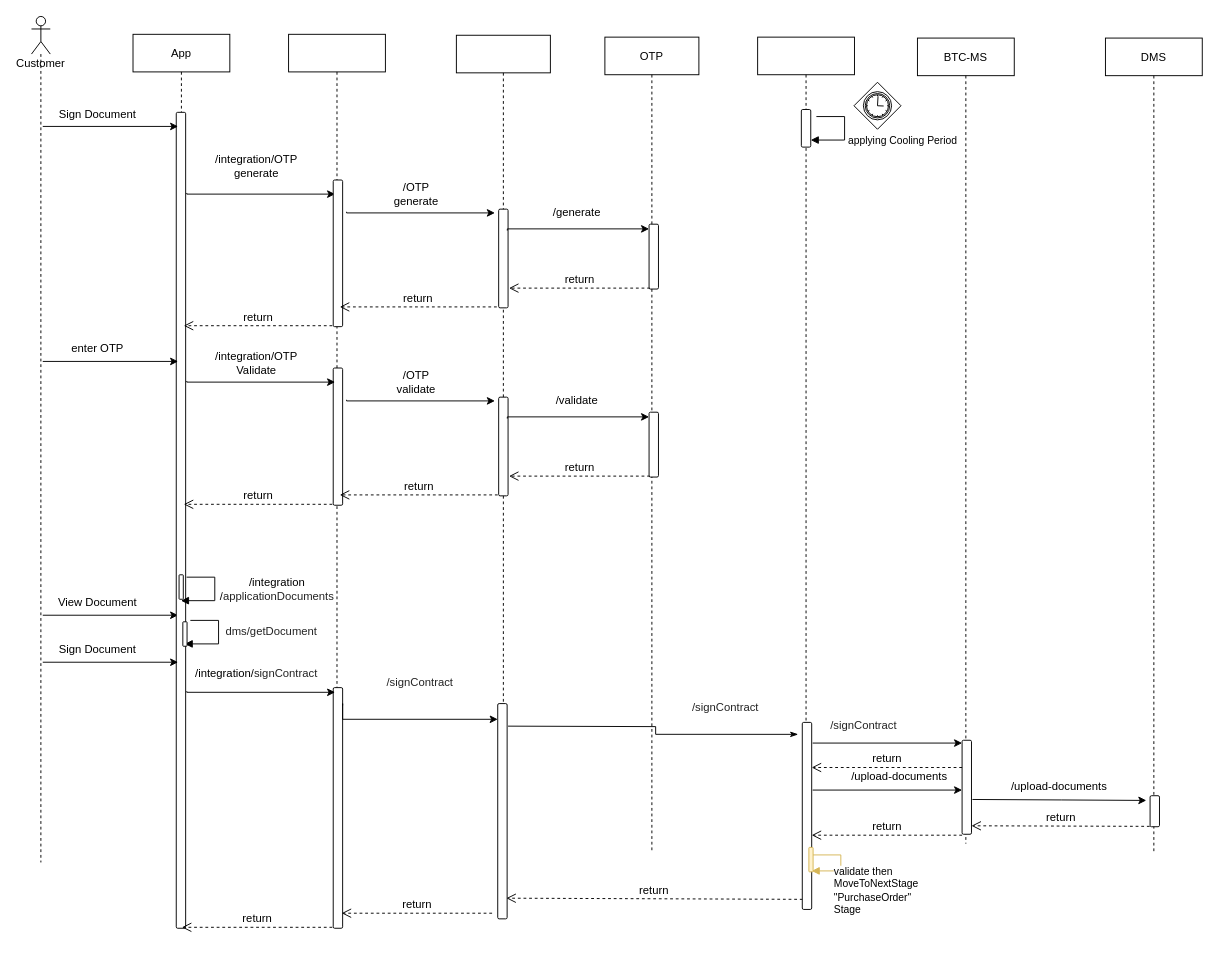
The diagram is 1218 pixels wide and 953 high, and some of its shapes have lost their labels. Here are the shapes that lost their labels. From the top down, the box of each, then its label:
(288, 33, 385, 872): Zuul Gateway
(455, 34, 550, 853): Ingeration
(757, 36, 854, 853): Kastle
